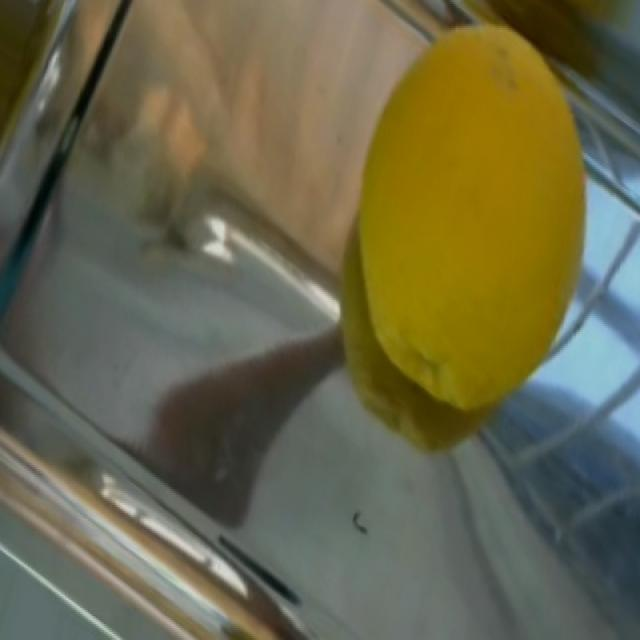Fruit: (328, 32, 609, 433)
